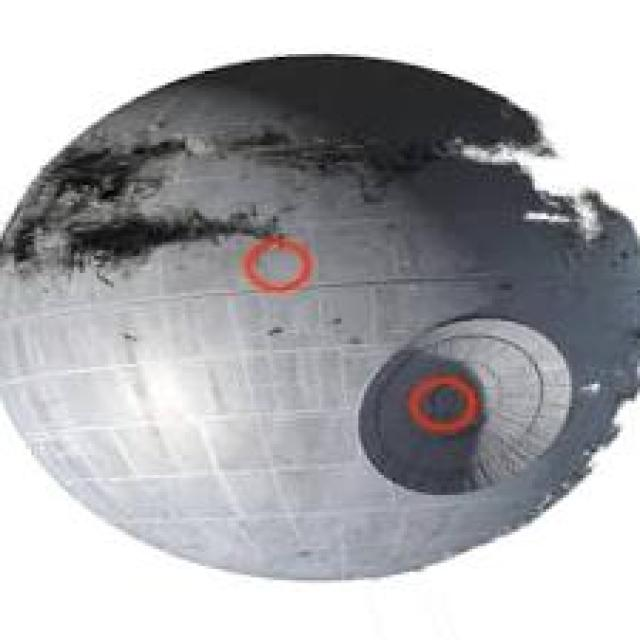deathstar: (0, 58, 640, 578)
